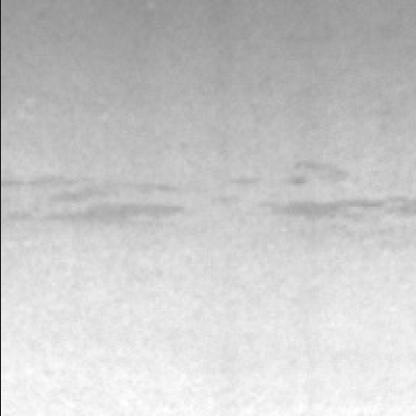inclusion: (4, 171, 208, 244), (237, 166, 416, 233)
